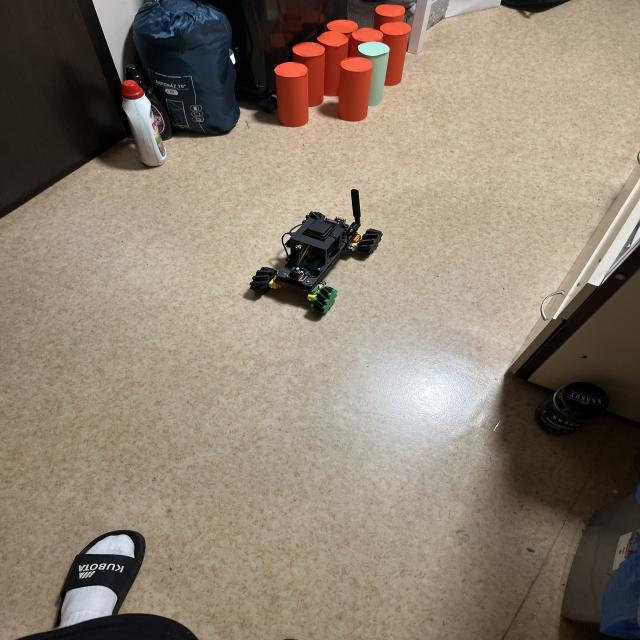robot: (250, 189, 382, 313)
